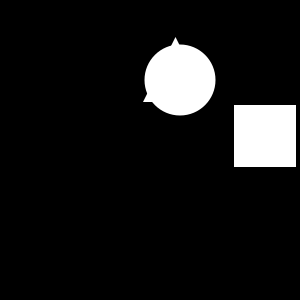circle: (234, 105, 296, 167)
rectangle: (144, 44, 215, 116)
triangle: (143, 37, 208, 102)
